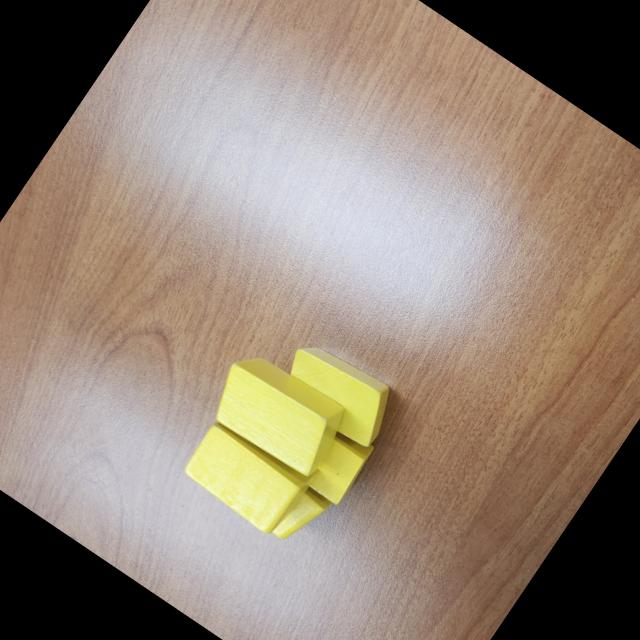yellow: (202, 343, 357, 486), (178, 406, 322, 542), (269, 330, 406, 454), (252, 391, 379, 509), (264, 483, 332, 553)
